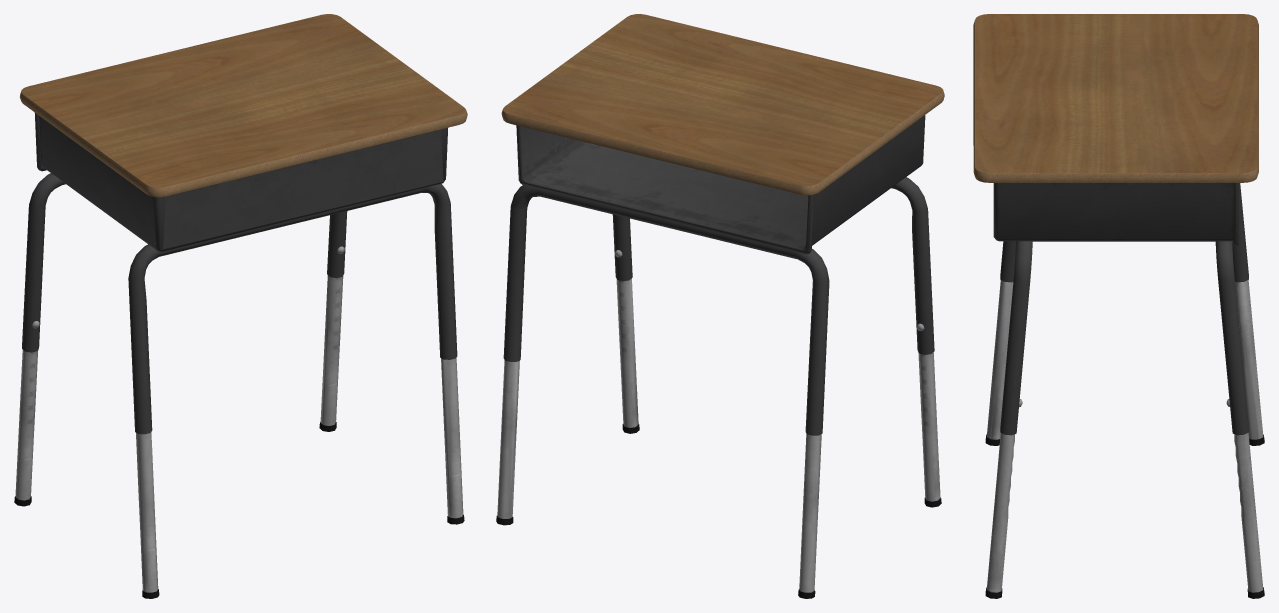
Rendered from SchoolDesk_01.fbx.
3 views of the same model, side by side, from view 1: azimuth 30°, elevation 25°; view 2: azimuth 150°, elevation 25°; view 3: azimuth 270°, elevation 25° (orthographic). The views are drawn at different scales.
Parts seen in each view (by area): view 1: SchoolDesk_01; view 2: SchoolDesk_01; view 3: SchoolDesk_01.
Part boxes in pixels (x1,y1,x2,y2): SchoolDesk_01: (14, 14, 467, 598); SchoolDesk_01: (496, 14, 944, 598); SchoolDesk_01: (973, 14, 1264, 598).
Size of the model in its own units: 71.29 by 88.22 by 54.67.
1 material, 1 textured.
